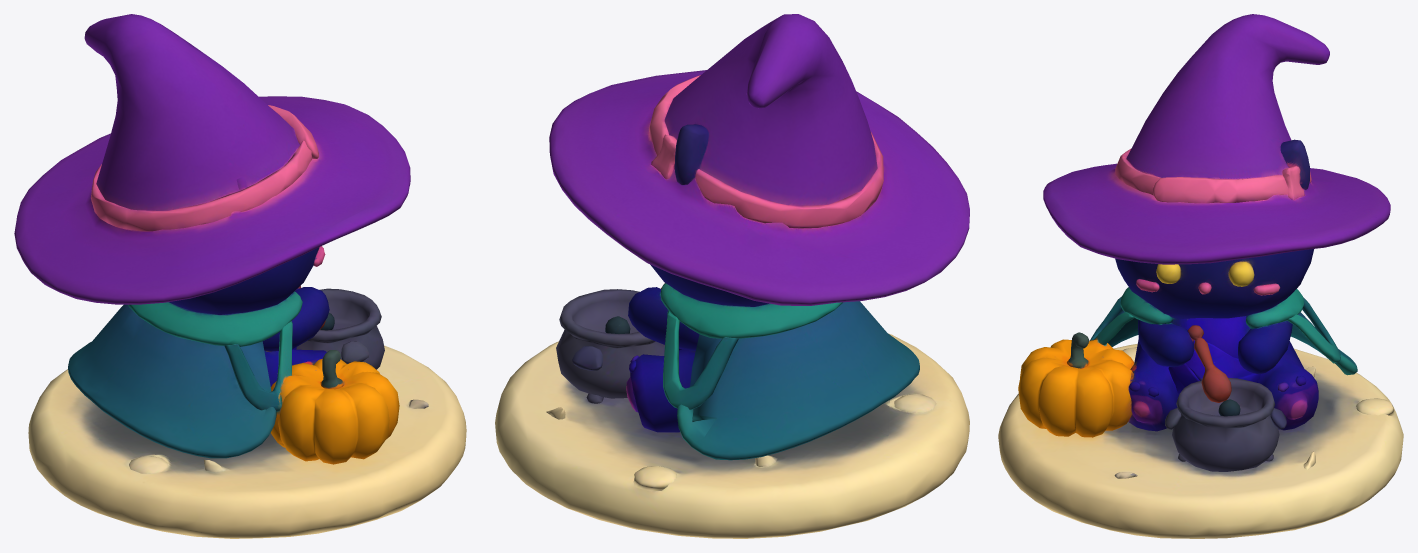
The model's file is KittenWitchCauldron_91c38f72.glb.
The picture shows the model from 3 angles, left to right: view 1: azimuth 30°, elevation 25°; view 2: azimuth 150°, elevation 25°; view 3: azimuth 270°, elevation 25°; orthographic projection. The views are drawn at different scales.
Parts seen in each view (by area): view 1: tripo_node_e97a9bd1-695d-4be1-9d5e-f76f91c38f72; view 2: tripo_node_e97a9bd1-695d-4be1-9d5e-f76f91c38f72; view 3: tripo_node_e97a9bd1-695d-4be1-9d5e-f76f91c38f72.
Boxes of the visible parts, x1=… form: tripo_node_e97a9bd1-695d-4be1-9d5e-f76f91c38f72: x1=14, y1=14, x2=466, y2=538; tripo_node_e97a9bd1-695d-4be1-9d5e-f76f91c38f72: x1=495, y1=14, x2=969, y2=538; tripo_node_e97a9bd1-695d-4be1-9d5e-f76f91c38f72: x1=998, y1=14, x2=1403, y2=538.
Bounding box in the file's own units: 0.9473 × 0.998 × 0.9121.
1 material, 1 textured.
